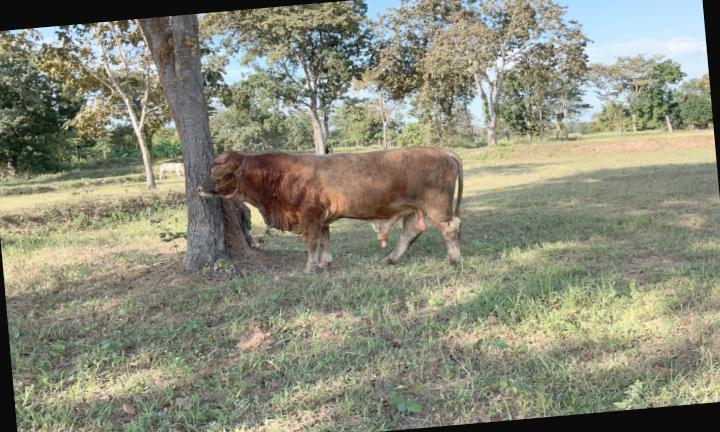Charolais: (197, 146, 463, 271)
